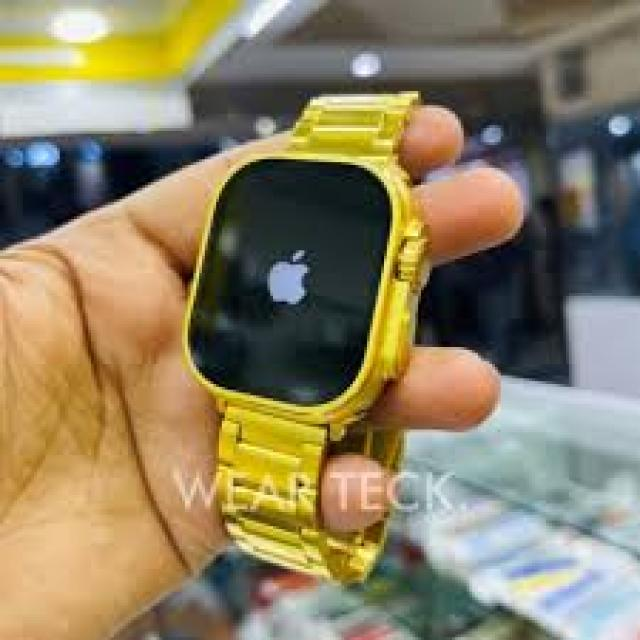objects: (185, 94, 425, 577), (185, 90, 419, 583)
